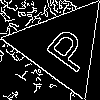P: (36, 20, 97, 75)
